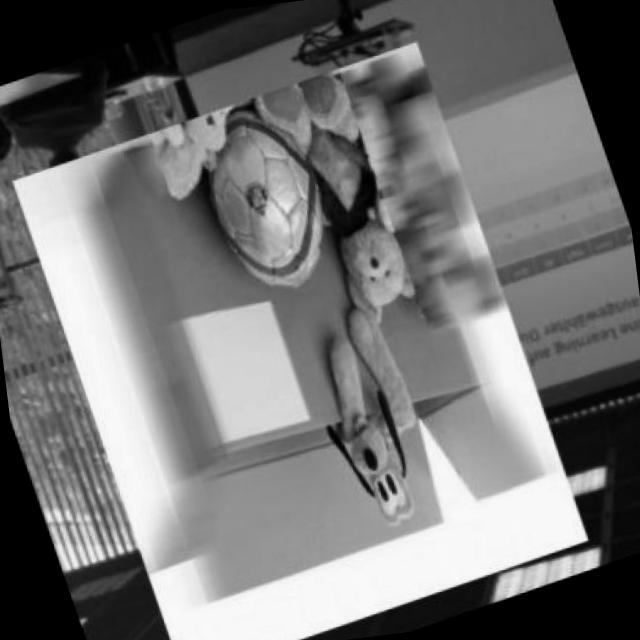box: (0, 14, 606, 640)
